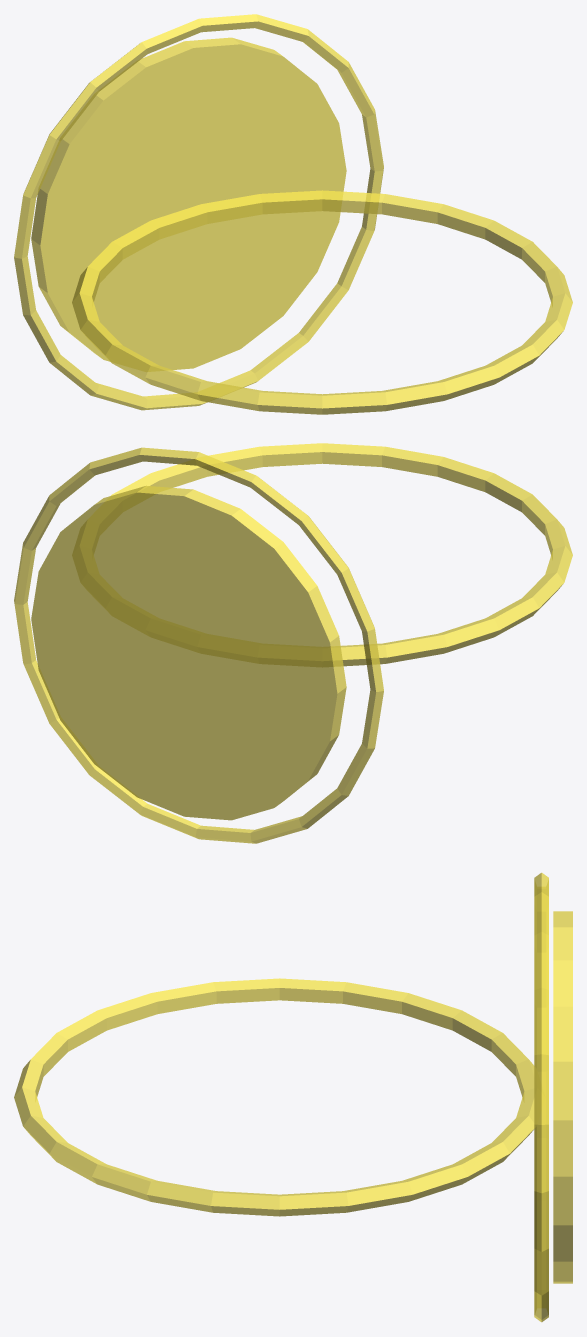
The model's file is 08_cover_point_marker.glb.
3 renders of one model, top to bottom at view 1: azimuth 30°, elevation 25°; view 2: azimuth 150°, elevation 25°; view 3: azimuth 270°, elevation 25°, orthographic. The views are drawn at different scales.
Parts seen in each view (by area): view 1: base_disc, outline_ring, base_ring; view 2: base_disc, base_ring, outline_ring; view 3: outline_ring, base_disc, base_ring.
Part boxes in pixels (x1=…): base_disc: x1=31, y1=37, x2=346, y2=369; outline_ring: x1=72, y1=190, x2=572, y2=414; base_ring: x1=14, y1=14, x2=383, y2=410; base_disc: x1=31, y1=485, x2=346, y2=820; base_ring: x1=14, y1=447, x2=383, y2=843; outline_ring: x1=92, y1=443, x2=572, y2=666; outline_ring: x1=14, y1=978, x2=534, y2=1216; base_disc: x1=553, y1=911, x2=572, y2=1283; base_ring: x1=534, y1=872, x2=548, y2=1322.
Size of the model in its own units: 1.36 by 1.16 by 1.43.
